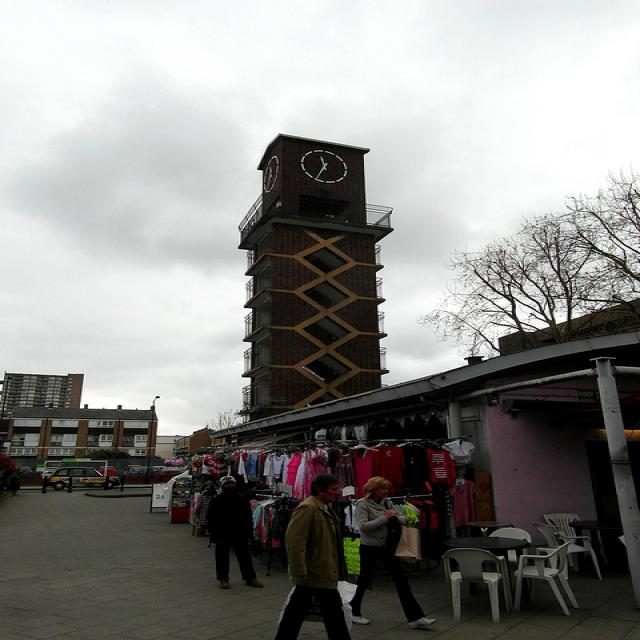chair: (513, 540, 581, 615), (440, 551, 511, 621), (530, 521, 605, 582), (489, 528, 533, 561), (543, 513, 580, 537), (618, 536, 626, 546)
dining table: (569, 518, 622, 579), (448, 533, 530, 553)
